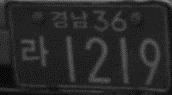1: (65, 33, 78, 83), (119, 36, 130, 87)
2: (85, 35, 111, 85)
3: (92, 8, 109, 33)
6: (110, 8, 127, 32)
9: (139, 37, 161, 87)
경남_O: (50, 9, 89, 31)
라: (19, 35, 49, 67)
